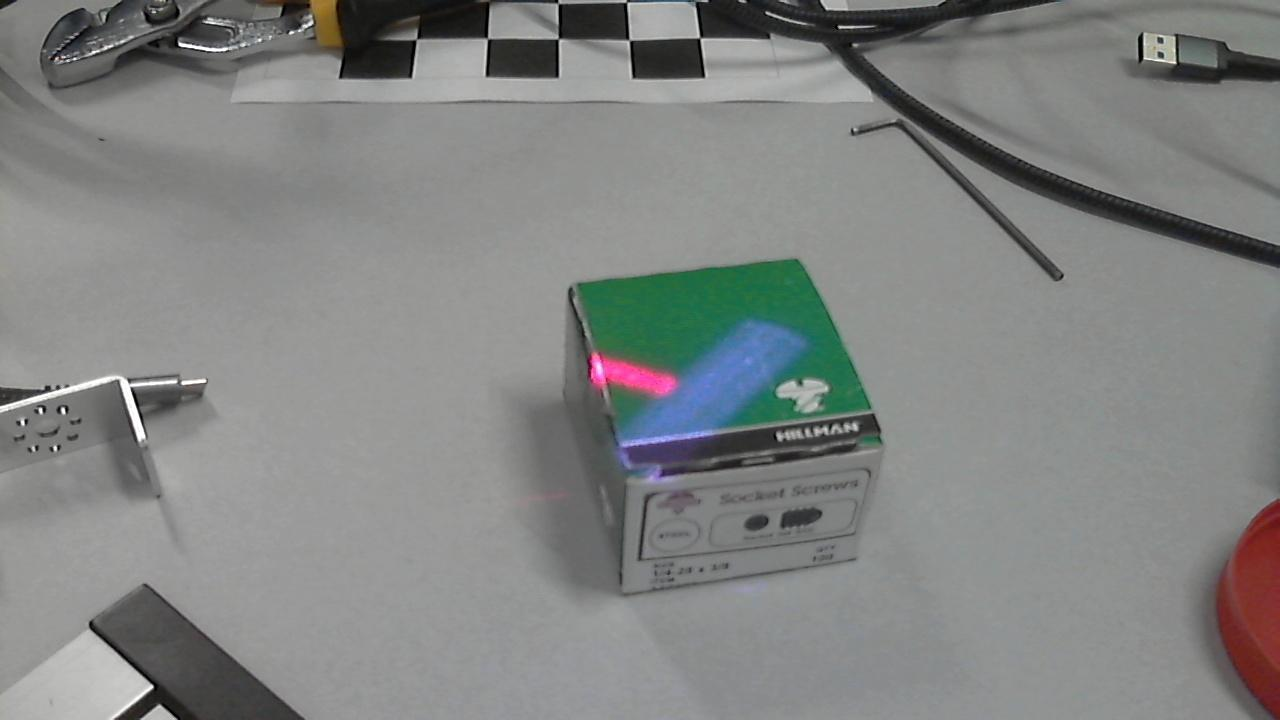Object screw packaging box - Material cardboard - Pdfname VgpKnmoKJfrS: (577, 308, 772, 498)
